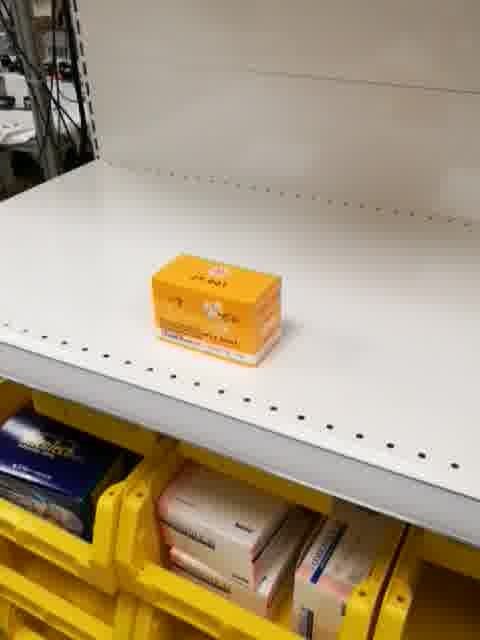jasminetea: (149, 251, 285, 369)
